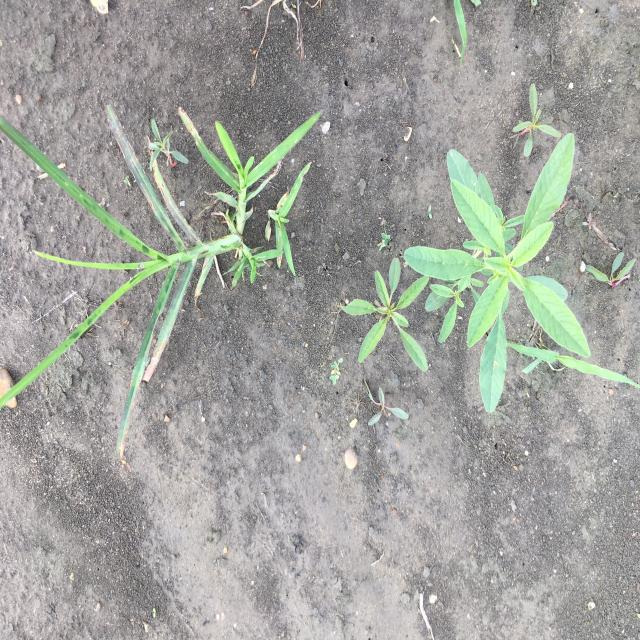Goosegrass: (3, 101, 324, 467)
Waterhemp: (401, 130, 593, 417), (338, 256, 433, 375), (509, 81, 564, 158), (145, 116, 192, 174)
